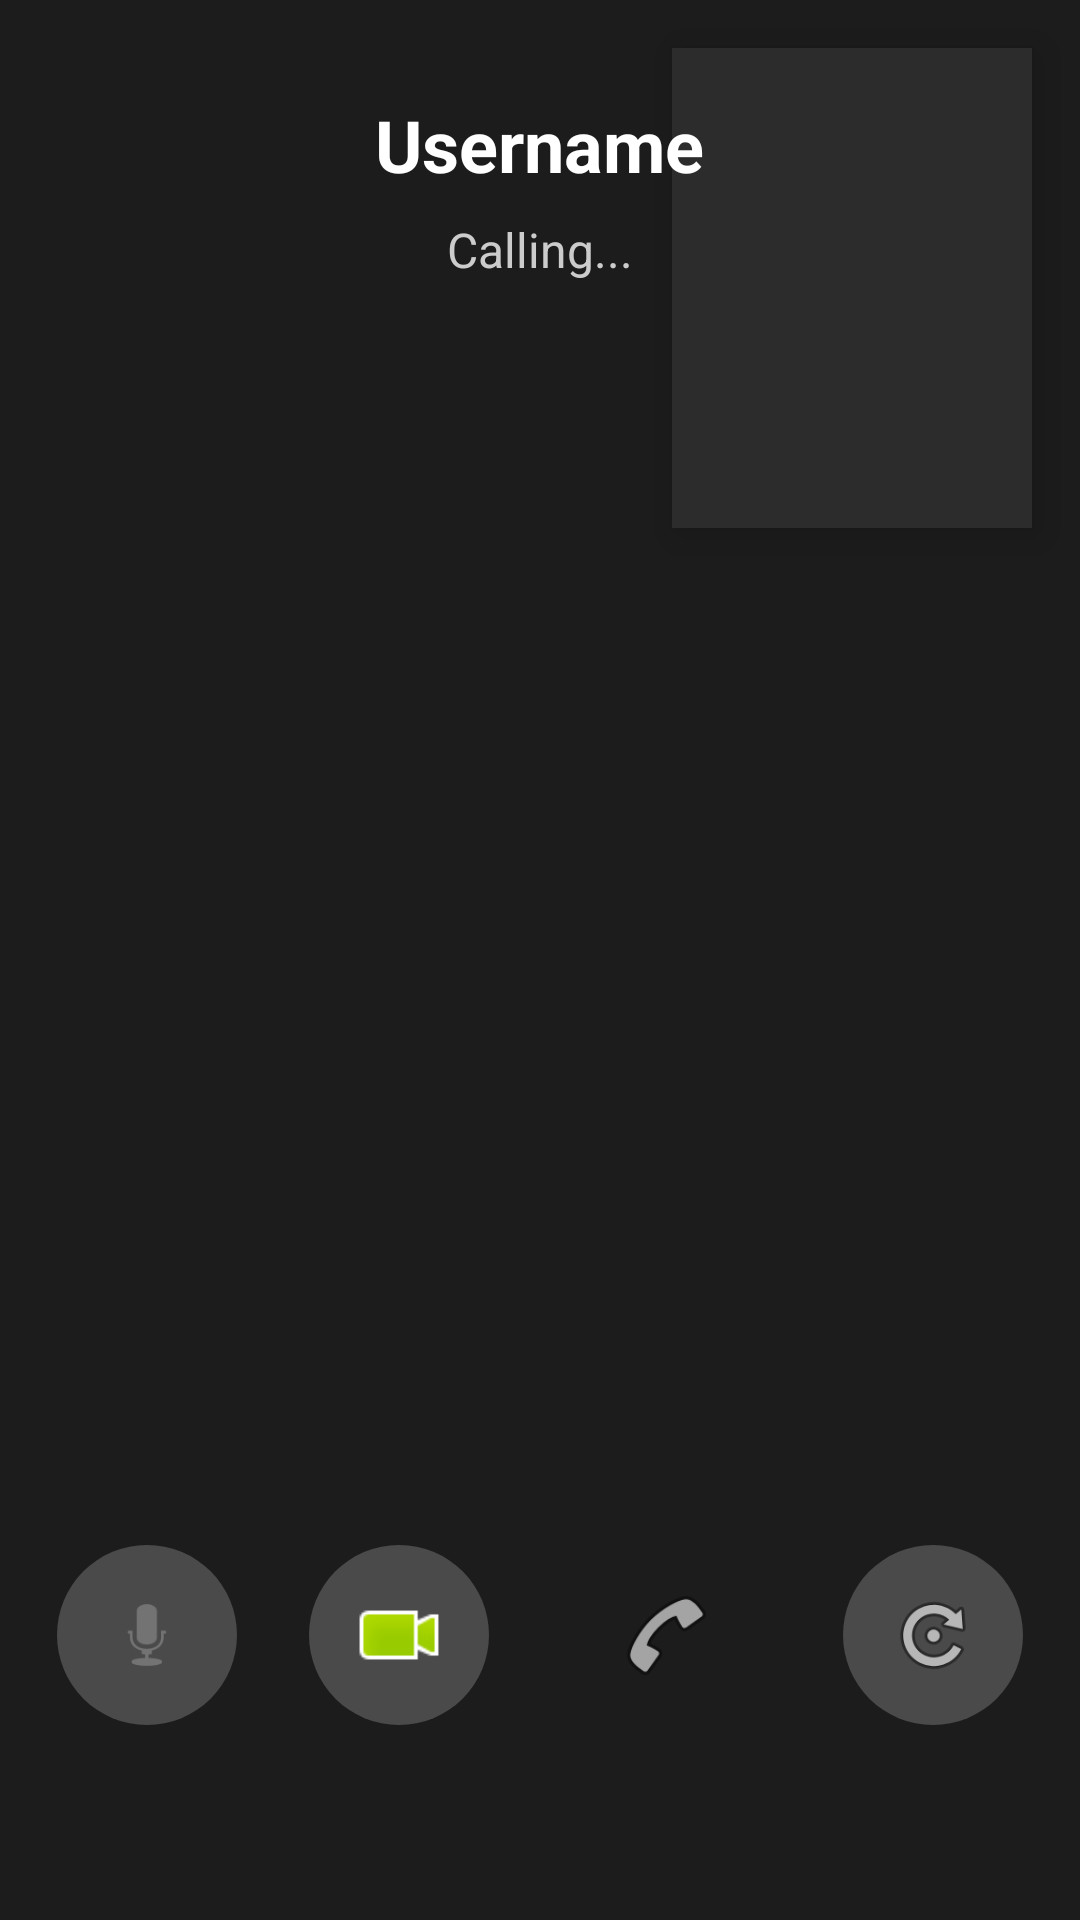

Where to tap for icons on this 1080*1920 app screen, as [x,y]:
call: [666,1635]
presence video online: [399,1635]
rotate: [933,1635]
speak now: [147,1635]
